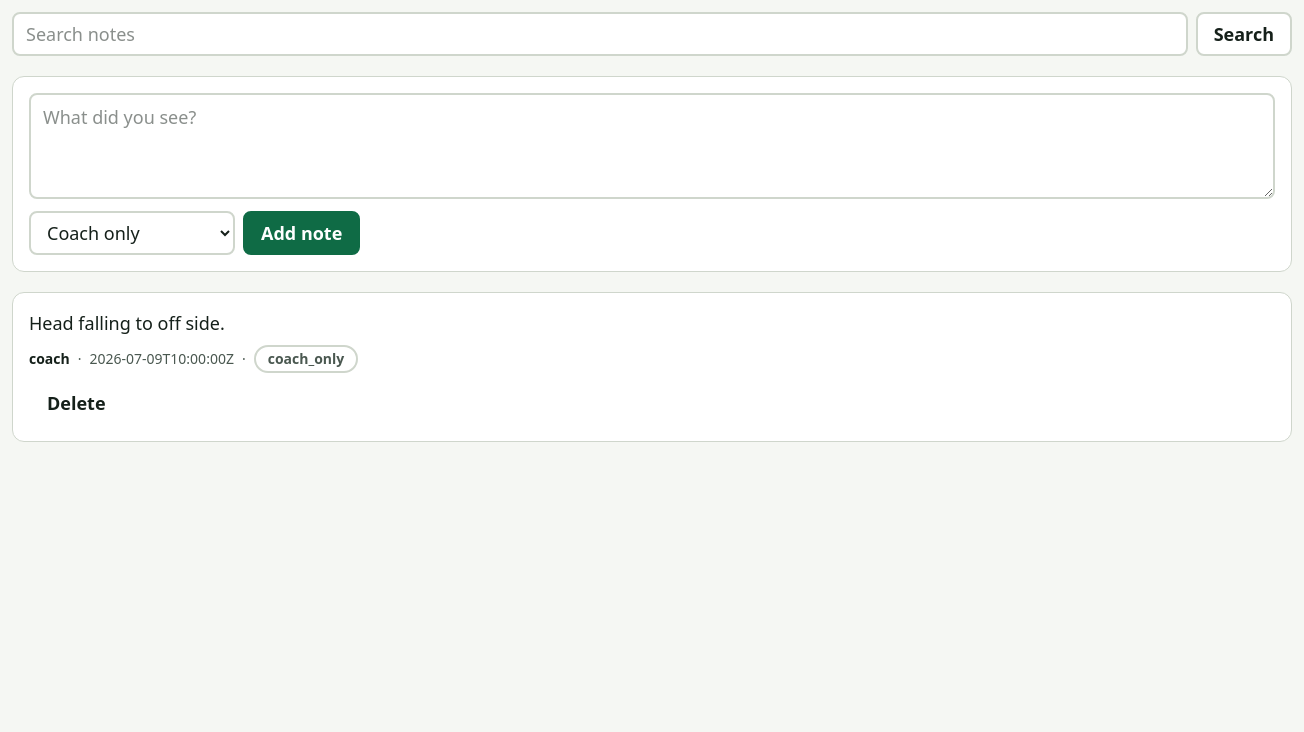
Test: NotesPanel › surfaces delete failures
Click the button "Delete": (76, 403) [29,381,124,425]
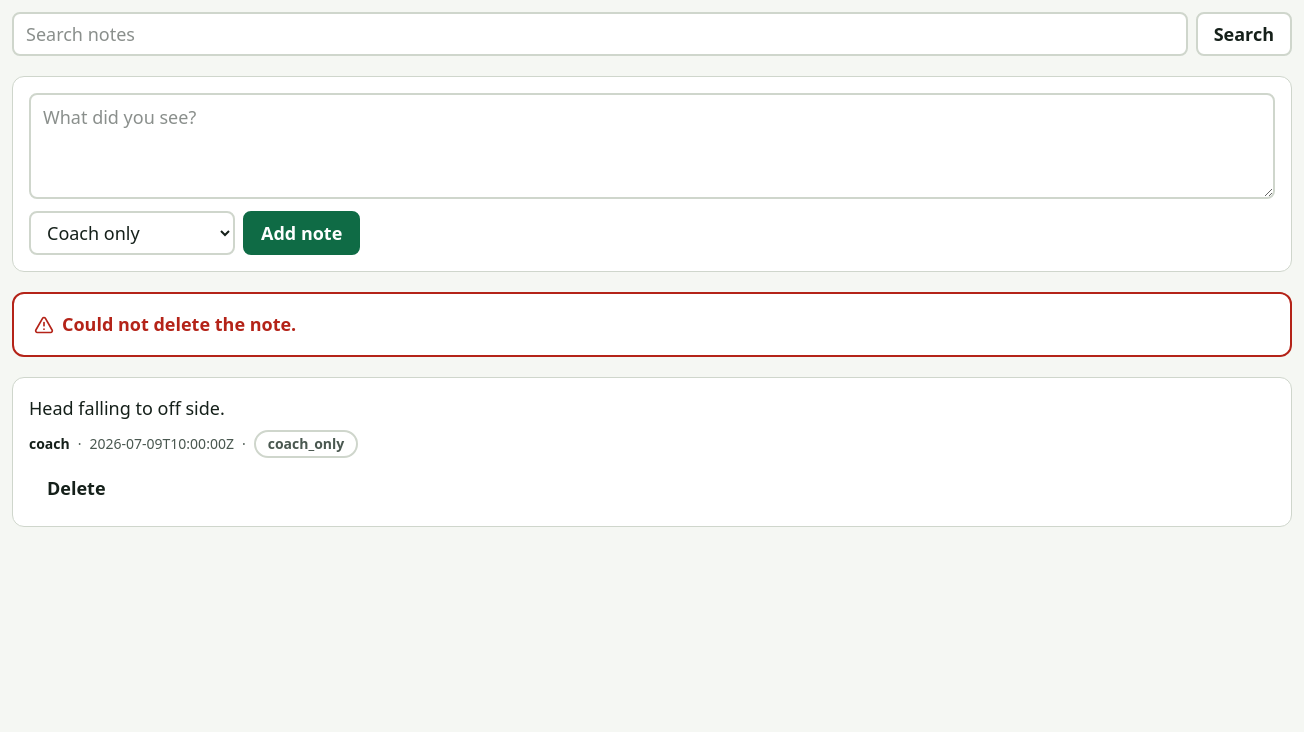
expect the message reads "Could not delete the note.": met, box [62,312,296,336]
